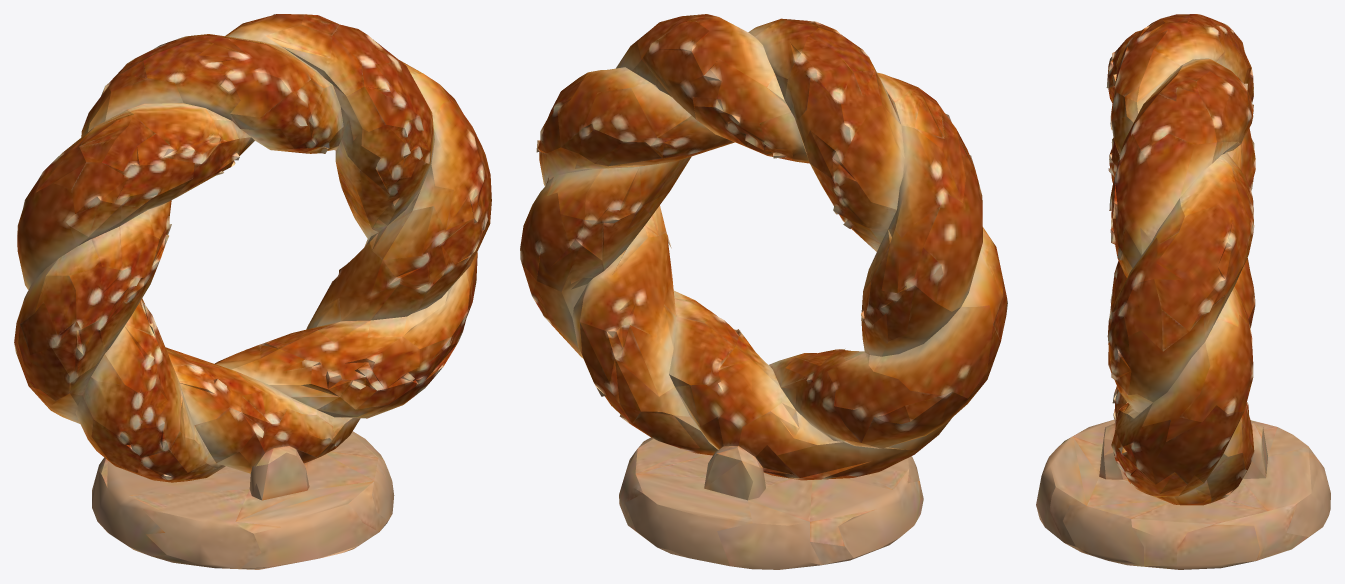
Rendered from simit.glb.
The picture shows the model from 3 angles, left to right: view 1: azimuth 30°, elevation 25°; view 2: azimuth 150°, elevation 25°; view 3: azimuth 270°, elevation 25°; orthographic projection. The views are drawn at different scales.
Parts seen in each view (by area): view 1: output_unwrapped; view 2: output_unwrapped; view 3: output_unwrapped.
Boxes of the visible parts, box(x1,y1,x2,y2) form: output_unwrapped: box(14, 14, 491, 569); output_unwrapped: box(520, 14, 1007, 569); output_unwrapped: box(1036, 14, 1330, 569).
Bounding box in the file's own units: 1.88 × 1.9 × 1.08.
1 material, 1 textured.
